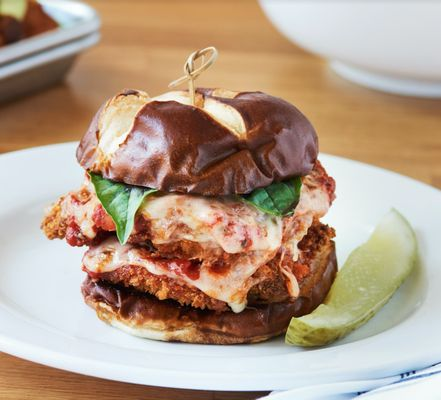soup: (72, 80, 340, 346)
sushi: (0, 1, 103, 106)
